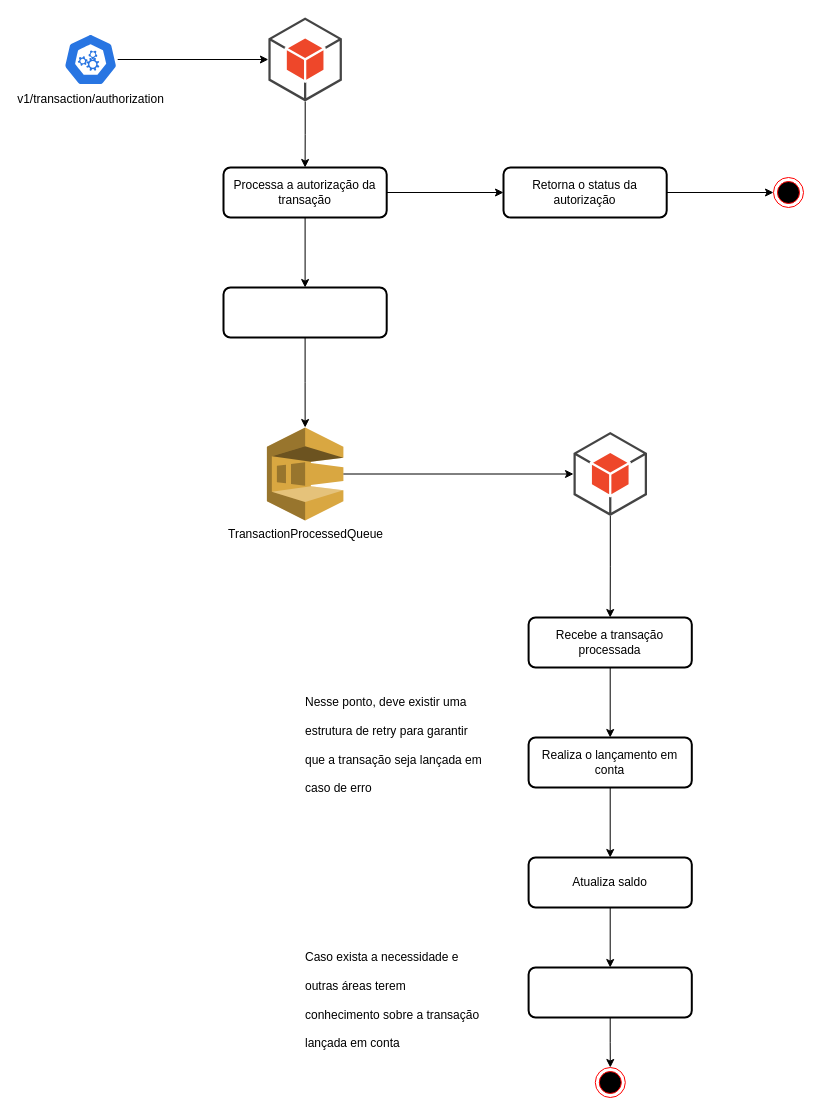
This 821x1115 diagram has some shape labels left out. The shapes that lost their labels are listed below. From the top down, each one's box as (x1, y1, x2, y2) in pixels, then its label:
(267, 16, 342, 102): MSProcessTransaction
(222, 286, 387, 338): Encaminha para uma fila de transções processadas
(572, 431, 647, 516): MSProcessedTransaction
(527, 966, 692, 1018): Notifica via tópico sobre transação lançada
